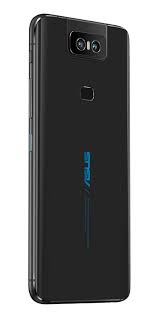asus: (27, 11, 132, 306)
